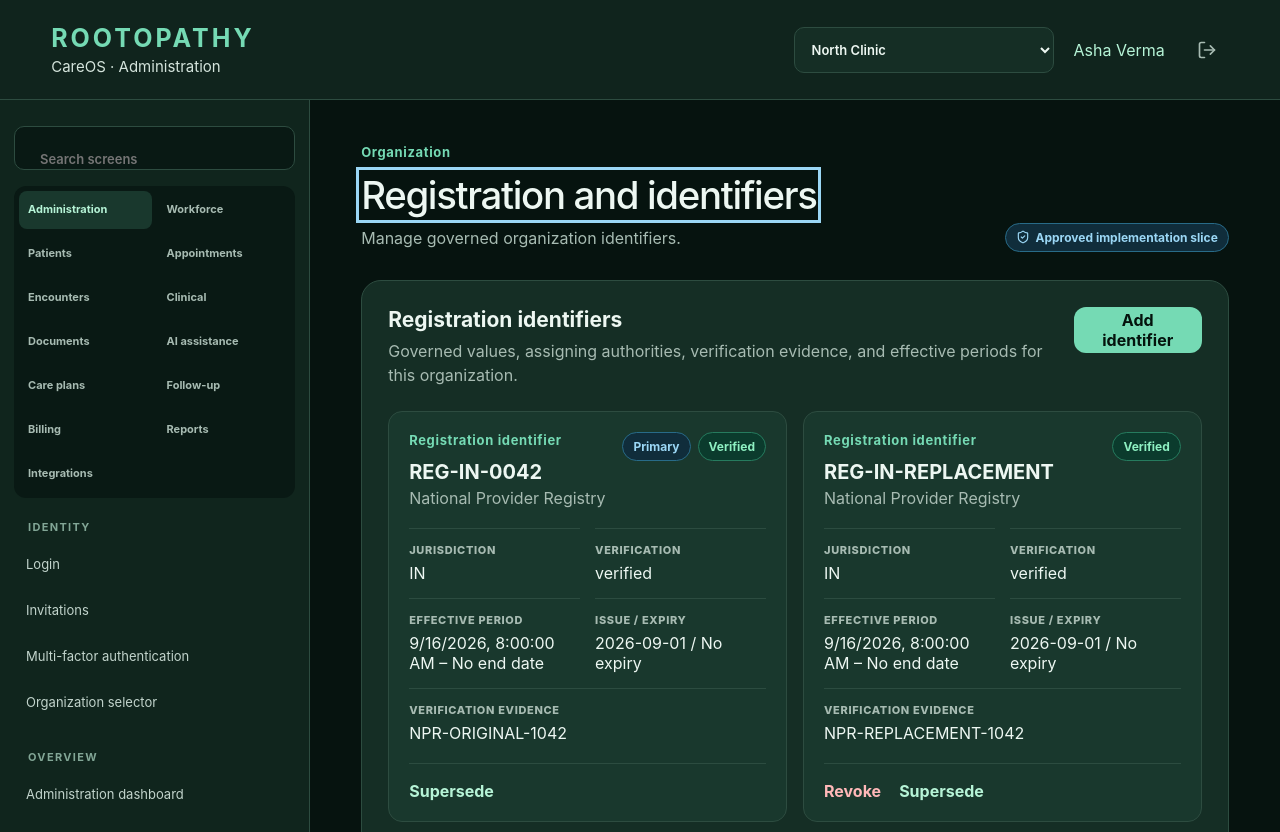
Scenario: CareOS frontend session boundary › supersedes an identifier with exact revisions for both verified records
The width and height of the screenshot is (1280, 832).
Check: the element "REG-IN-0042" is shown, box x1=388 y1=411 x2=787 y2=822
Click the button "Supersede" below "NPR-ORIGINAL-1042".
click(452, 791)  # box x1=409 y1=781 x2=494 y2=801
(page scrolled)
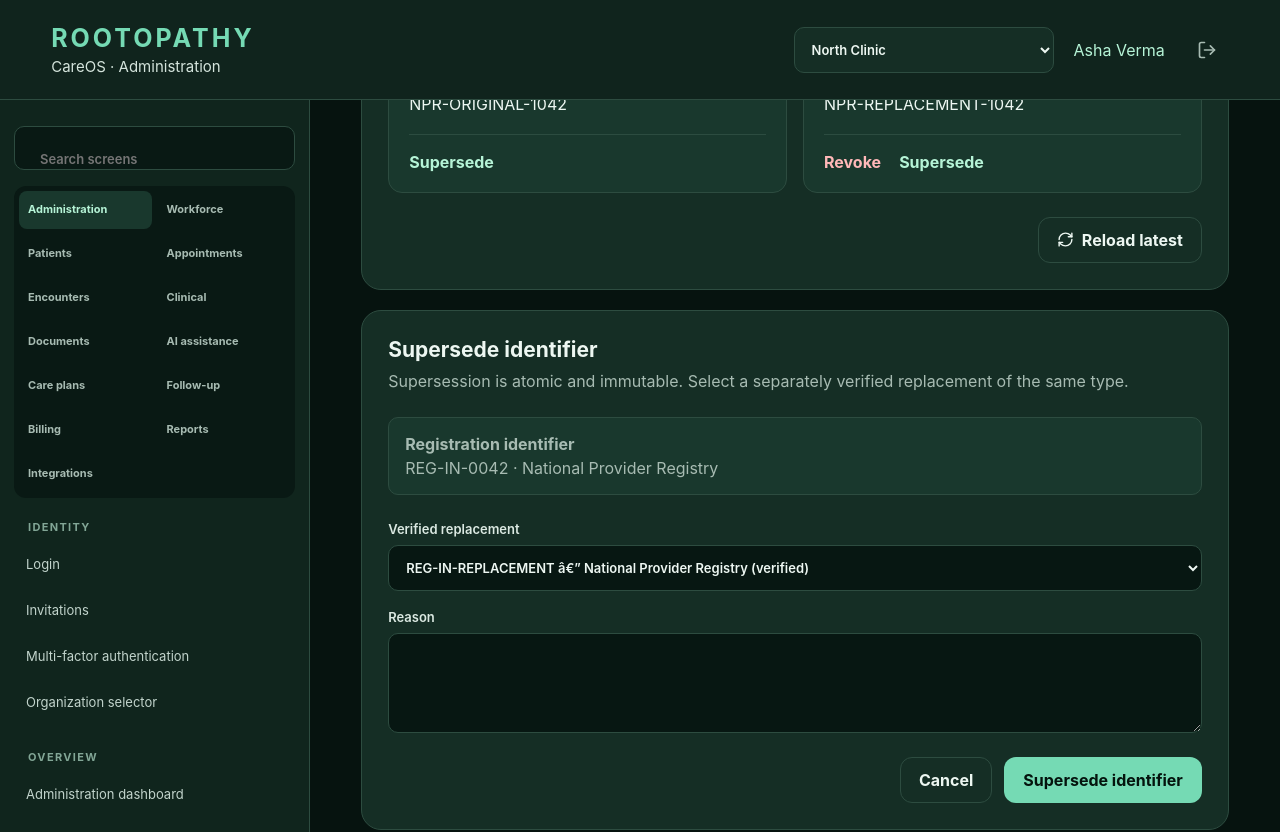
Check: the dropdown labelled "Verified replacement" shows "REG-IN-REPLACEMENT â€” National Provider Registry (verified)", box x1=388 y1=545 x2=1202 y2=591
Type "Verified registry replacement approved CARE-1042" into the text box labelled "Reason".
click(795, 683); type("Verified registry replacement approved CARE-1042")  # box x1=388 y1=633 x2=1202 y2=733
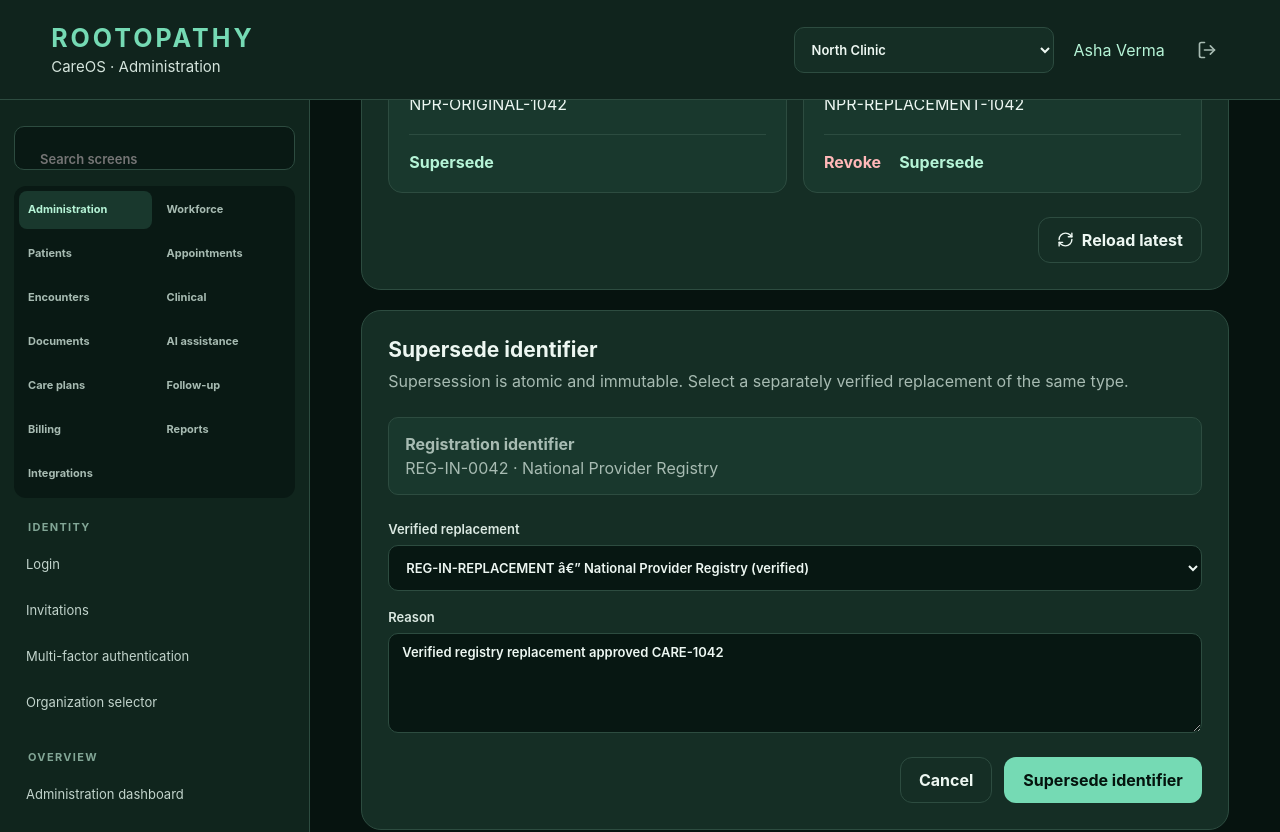
Click the button "Supersede identifier".
click(1103, 780)  # box x1=1004 y1=757 x2=1202 y2=803
(page scrolled)
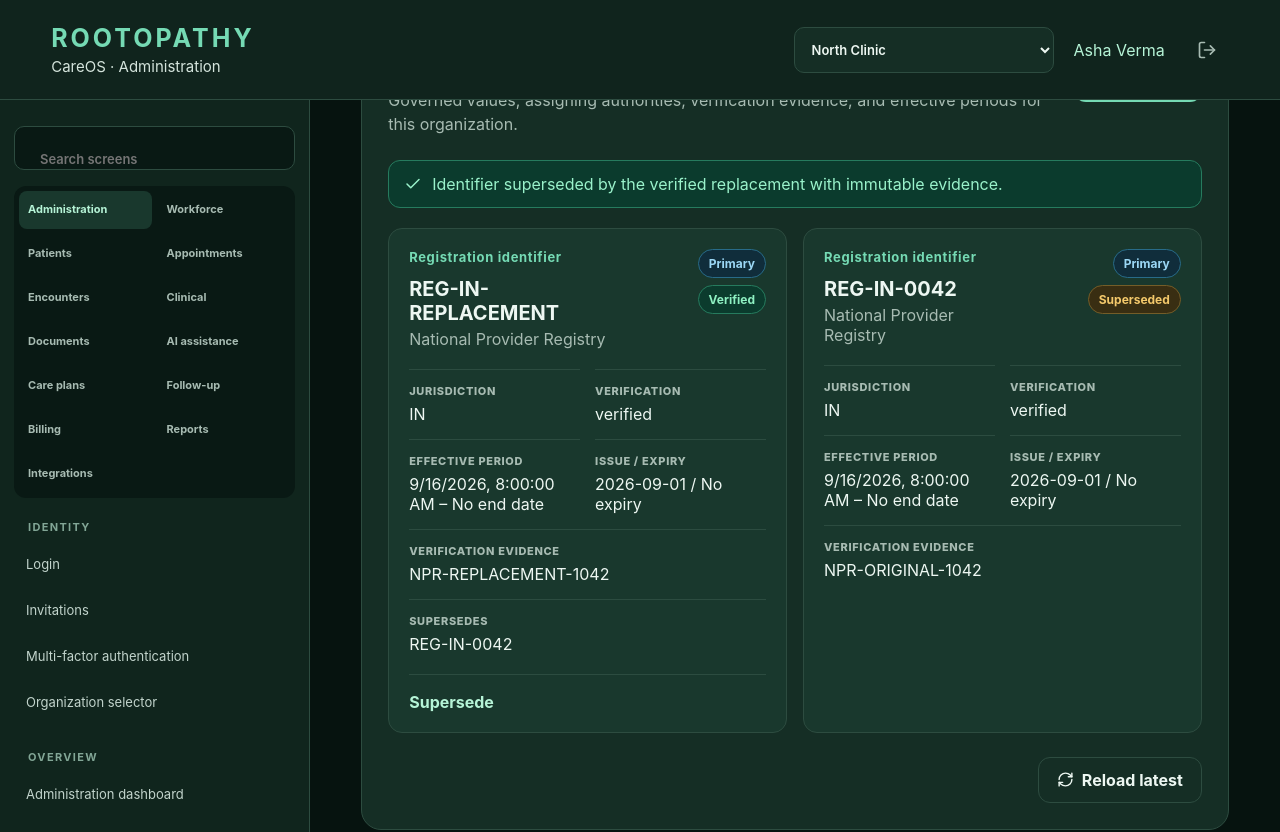
Check: the text "REG-IN-0042" is shown, box x1=409 y1=634 x2=512 y2=654
Check: the message shows "Identifier superseded by the verified replacement", box x1=432 y1=174 x2=1003 y2=194
